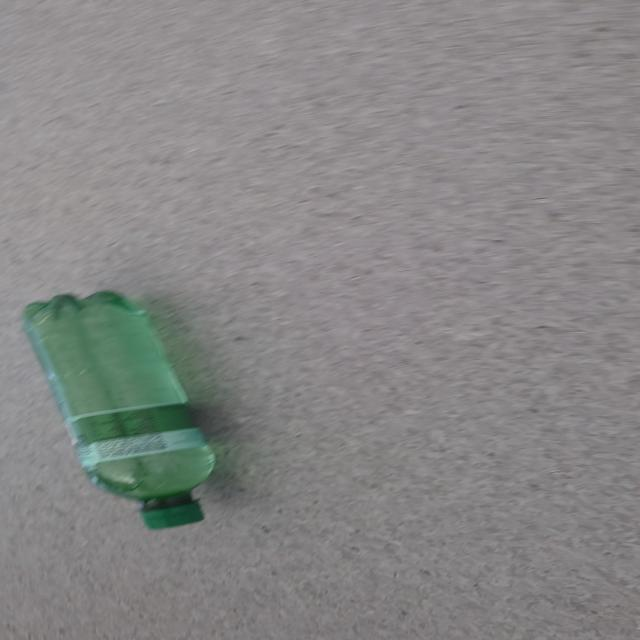bottle: (19, 289, 217, 530)
